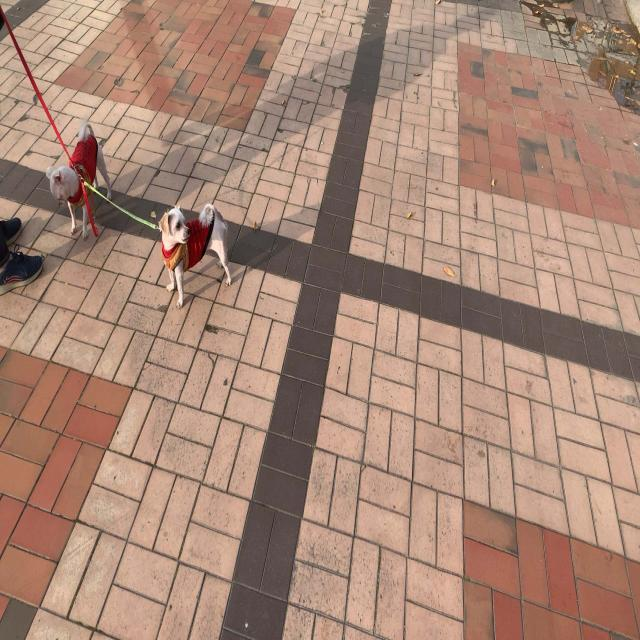Dog: (46, 121, 112, 242), (158, 204, 232, 308)
